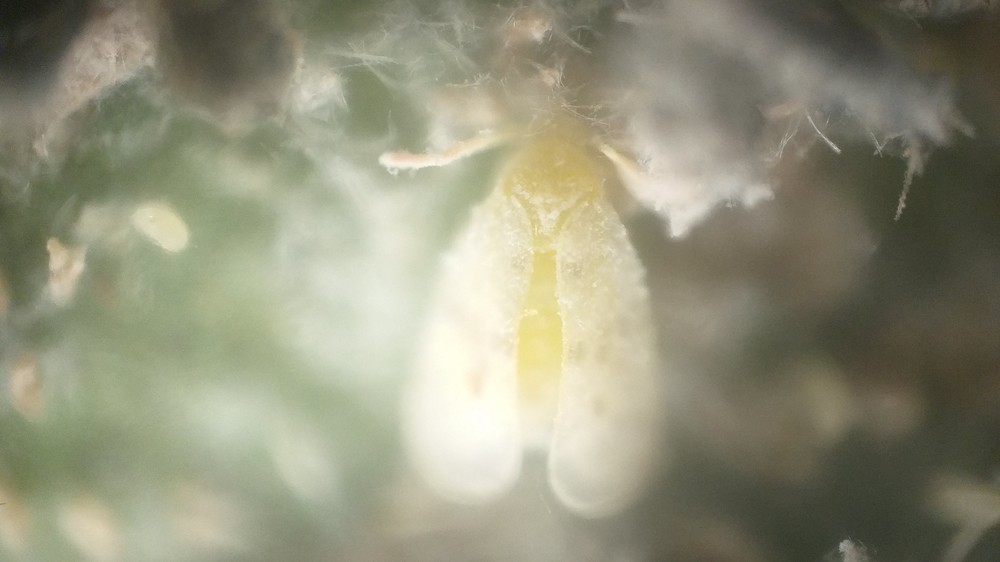Mosca Blanca: (346, 93, 762, 532)
